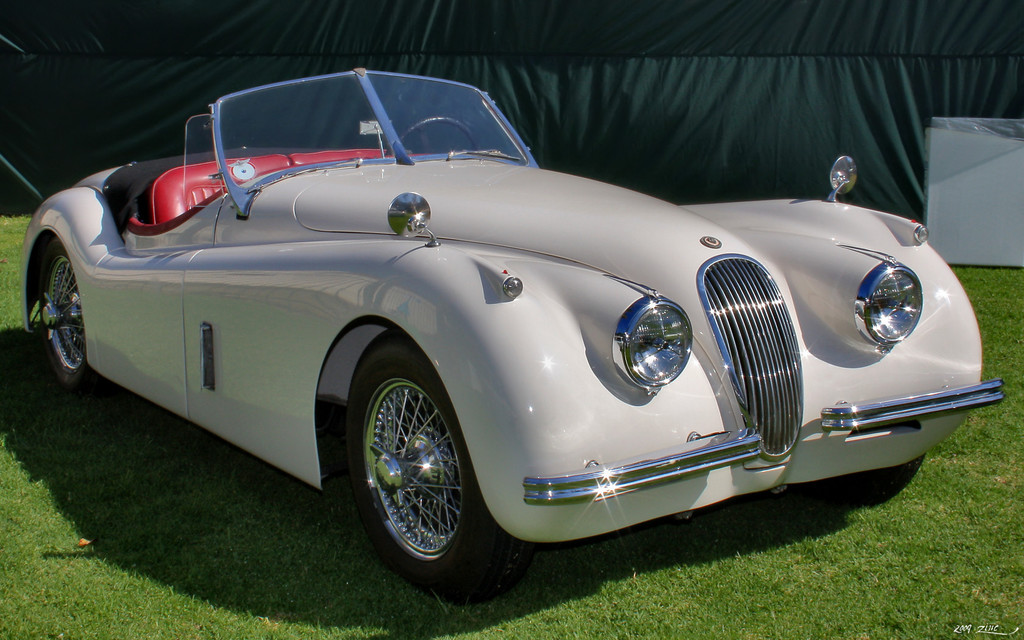Car: (16, 66, 1011, 605)
